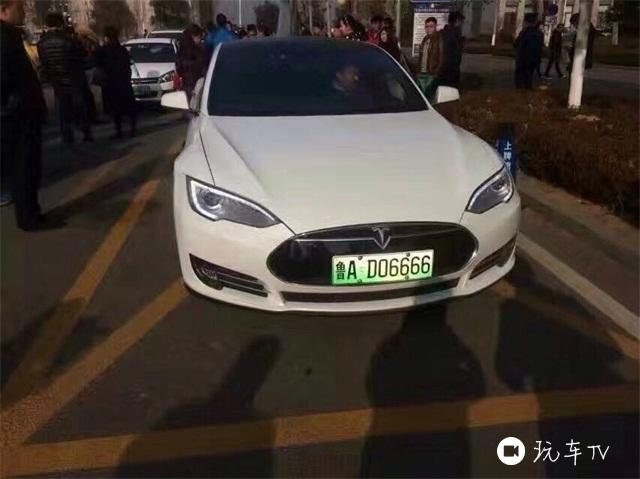plate: (324, 240, 441, 295)
